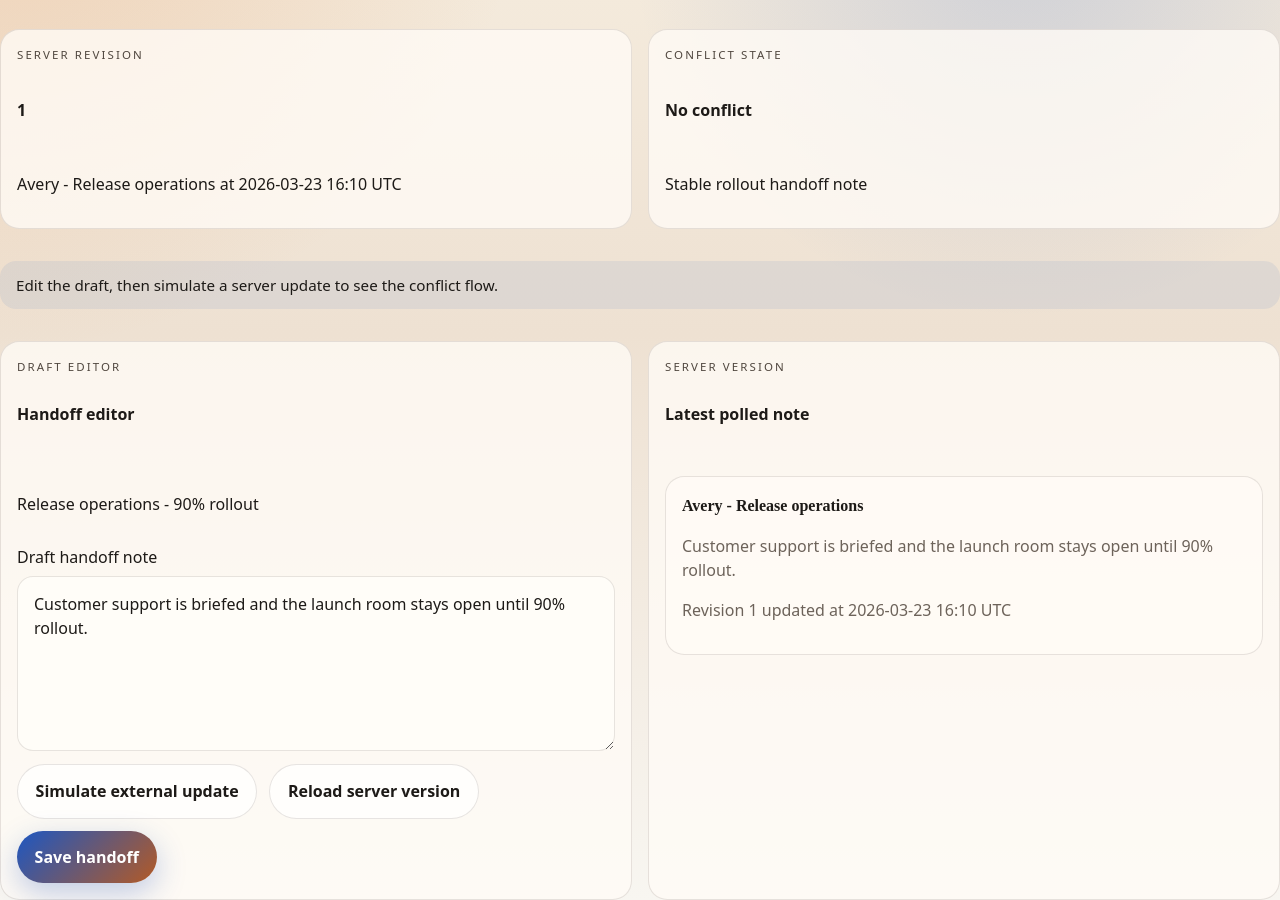
Scenario: release handoff conflict resolution › detects a conflict after a background refetch updates the server version
(page scrolled)
Replace the text in the text box labelled "Draft handoff note" with "Customer support is briefed, but I still need to add the escalation matrix before the launch room closes.": (316, 664) [17,576,615,751]
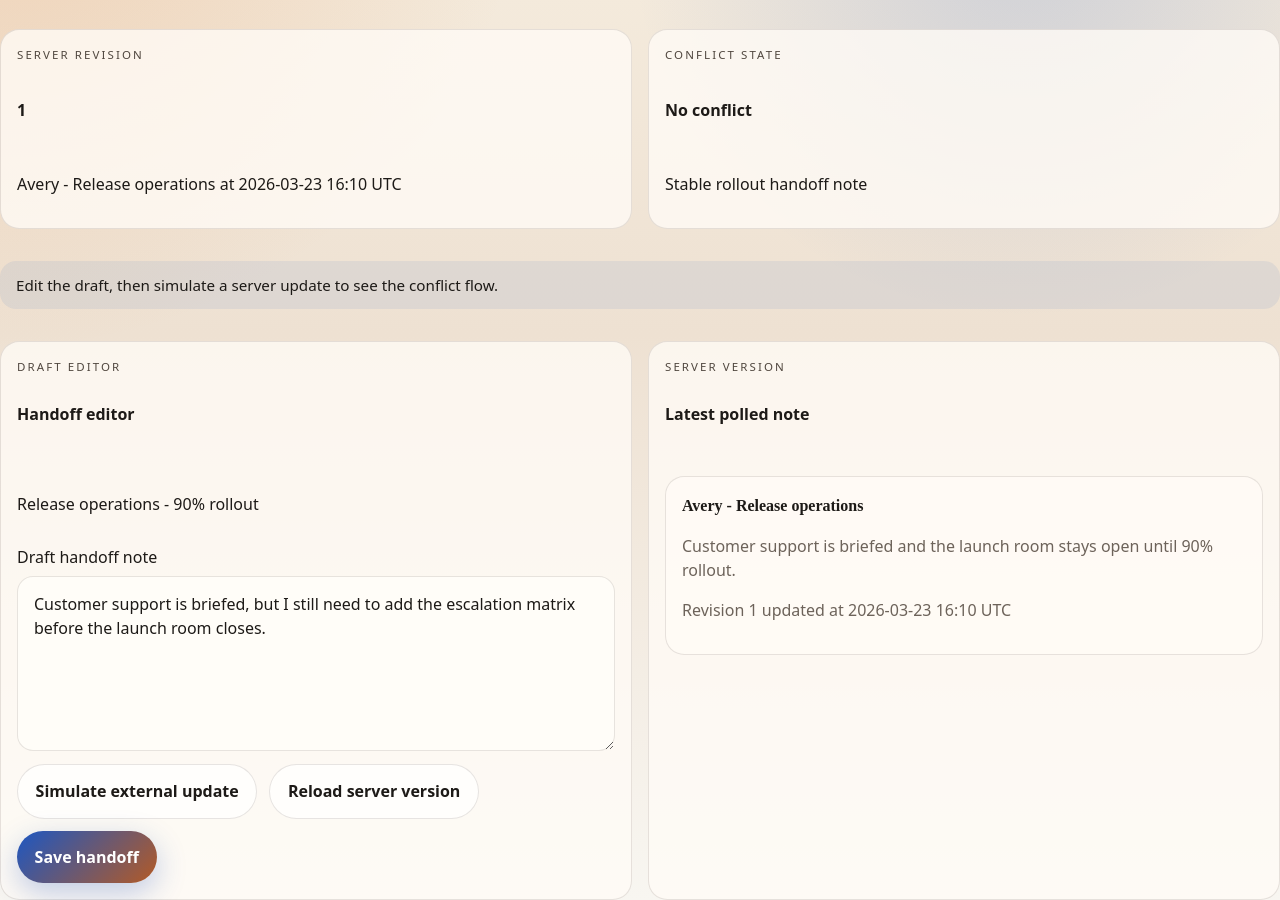
Click the button "Simulate external update": (137, 791) [17,764,257,819]
Wait 180 ms
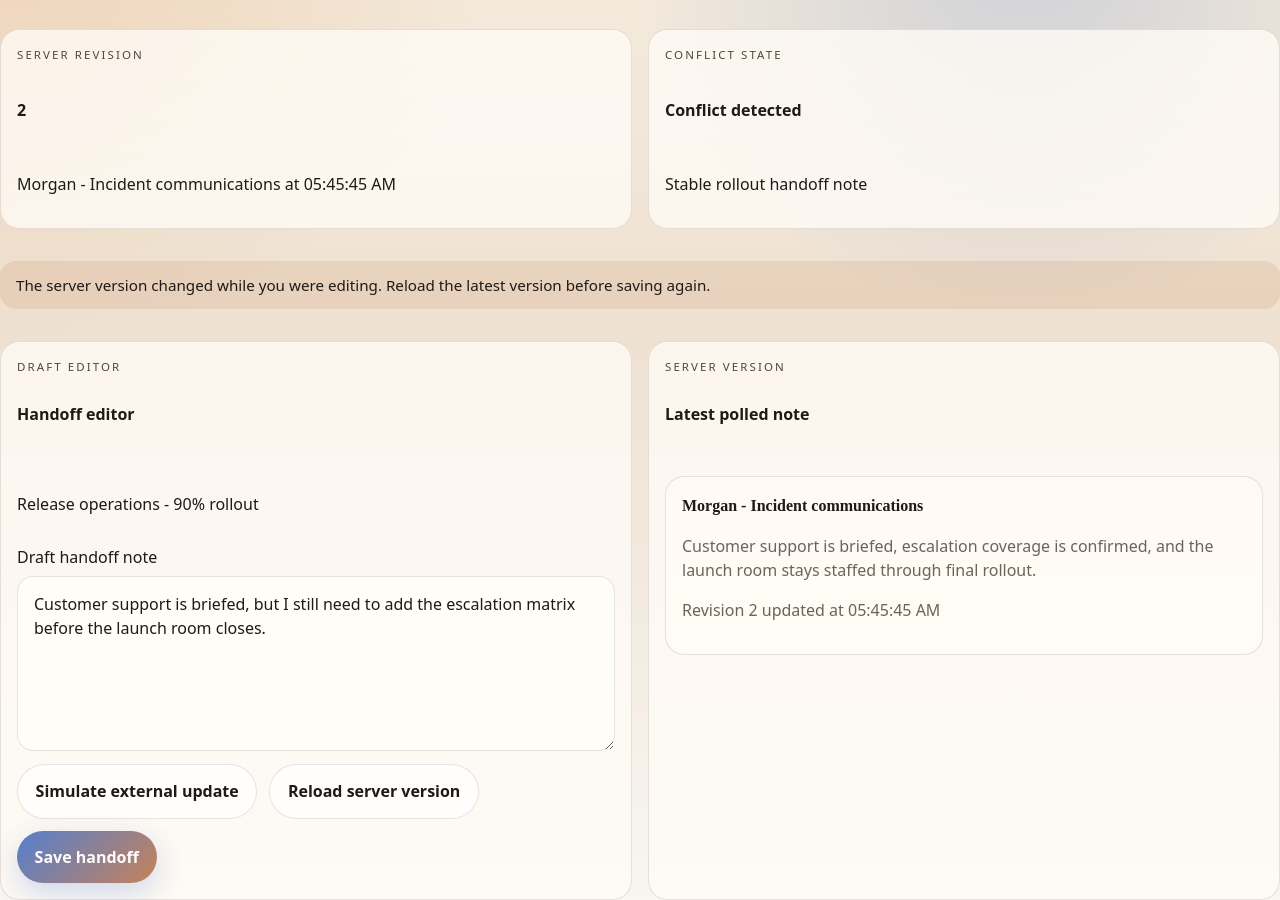
expect the button "Reload server version" is enabled: met, box [269,764,479,819]
expect the text "The server version changed while you were editing. Reload the latest version before saving again." is shown: met, box [16,275,710,295]
